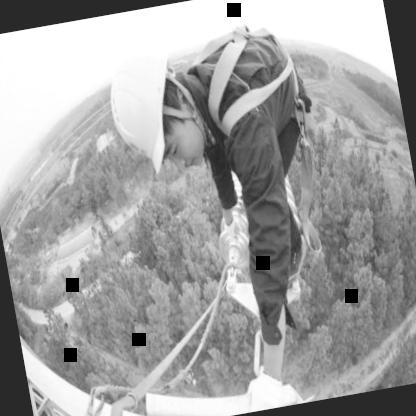helmet: (86, 24, 218, 198)
